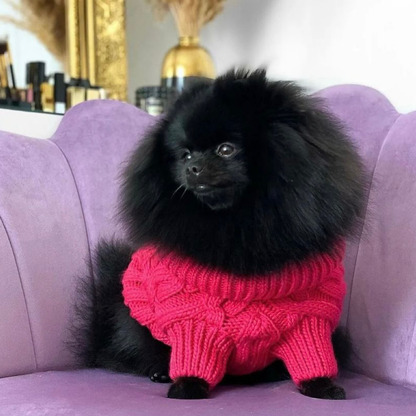Pomeranian: (74, 71, 375, 396)
